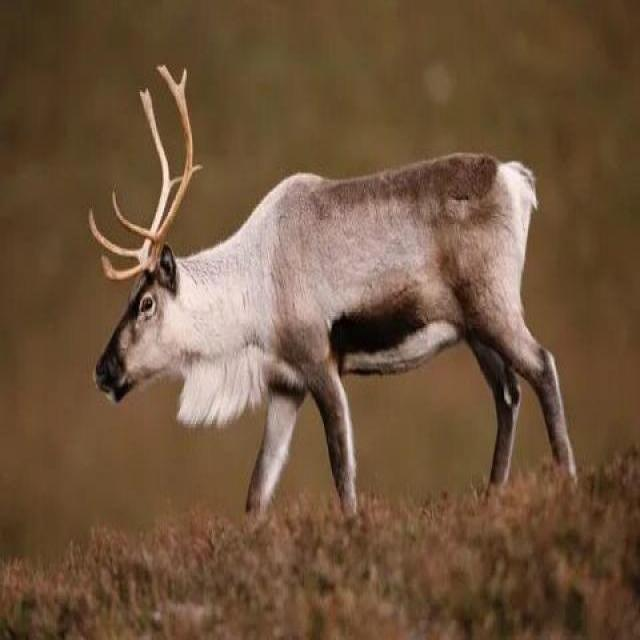deer: (89, 135, 558, 546)
